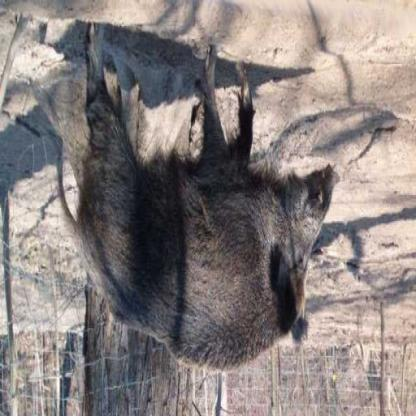boar: (26, 26, 343, 387)
